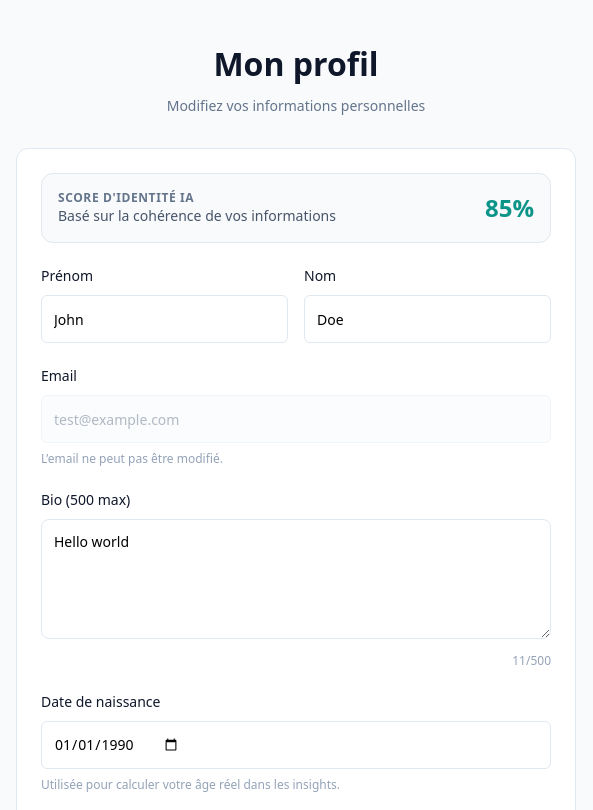
Test: ProfilePage › validates profile and shows errors
The width and height of the screenshot is (593, 810).
Clear the field showing "John" below "Prénom": (164, 319) x1=41 y1=295 x2=288 y2=343
(page scrolled)
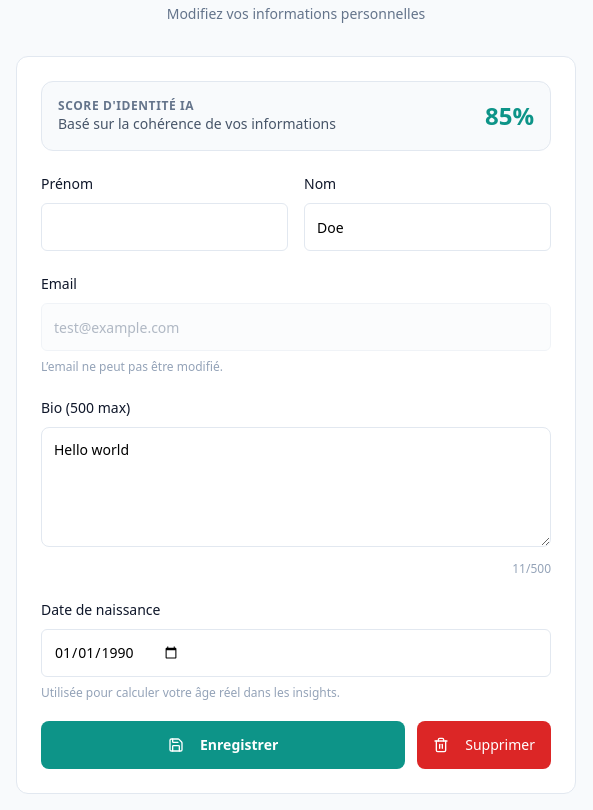
Click the button "Enregistrer": (223, 745) x1=41 y1=721 x2=405 y2=769
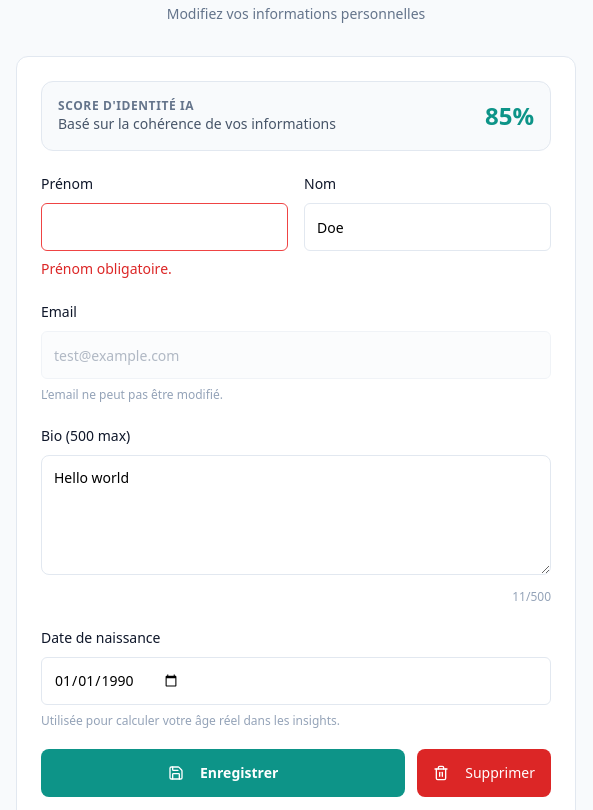
Now the text "Prénom obligatoire." is shown, box x1=41 y1=259 x2=172 y2=278
